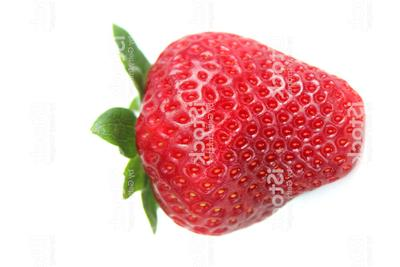strawberry: (0, 0, 400, 267)
